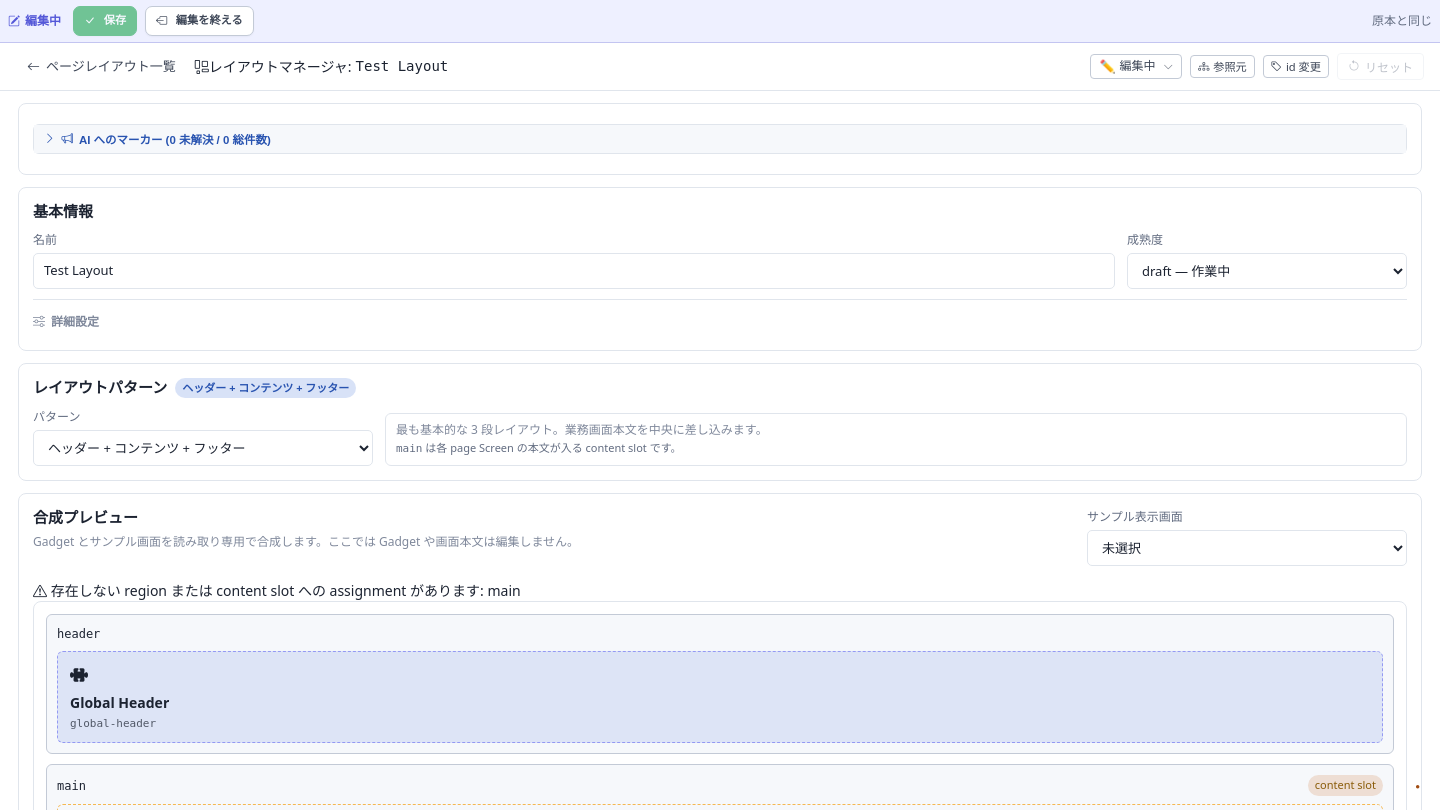
Scenario: PageLayoutEditor › updates regions from a pattern and drops content-slot assignments in editing mode
Expected: the element with test id "page-layout-orphan-assignments" shows "main", [487,581,521,600]
Select "ヘッダー + 左パネル + コンテンツ + フッター" in the dropdown with test id "page-layout-pattern-select". click: point(203, 448)
box: [33,430,373,466]
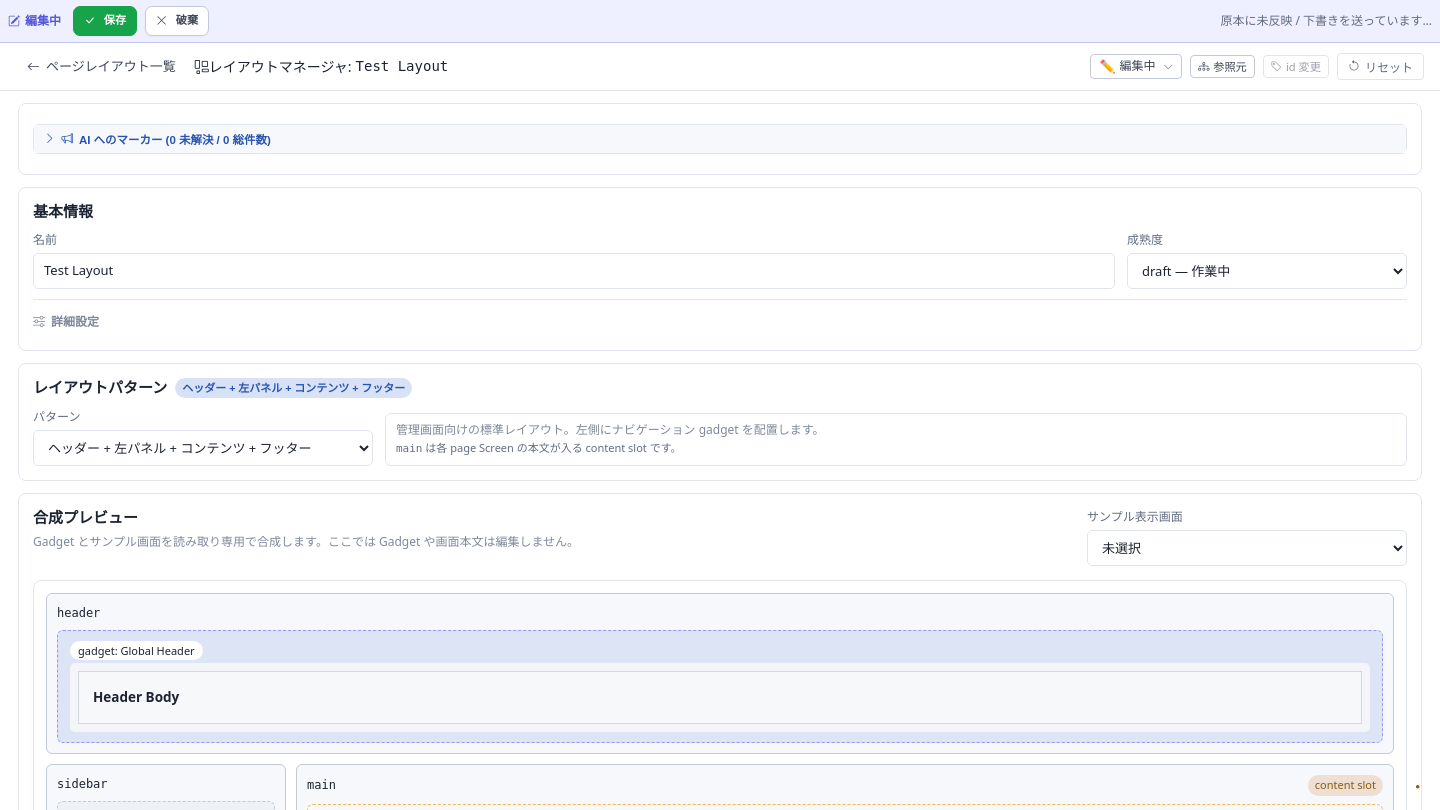
Expected: the element with test id "page-layout-gadget-preview-header" shows "Global Header", [120,643,195,658]
Result: the element with test id "page-layout-slot-sidebar" shows "sidebar" at [57,777,108,791]
Result: the element with test id "page-layout-orphan-assignments" is gone
